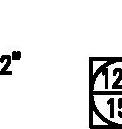instrumenttag: (89, 56, 121, 129)
